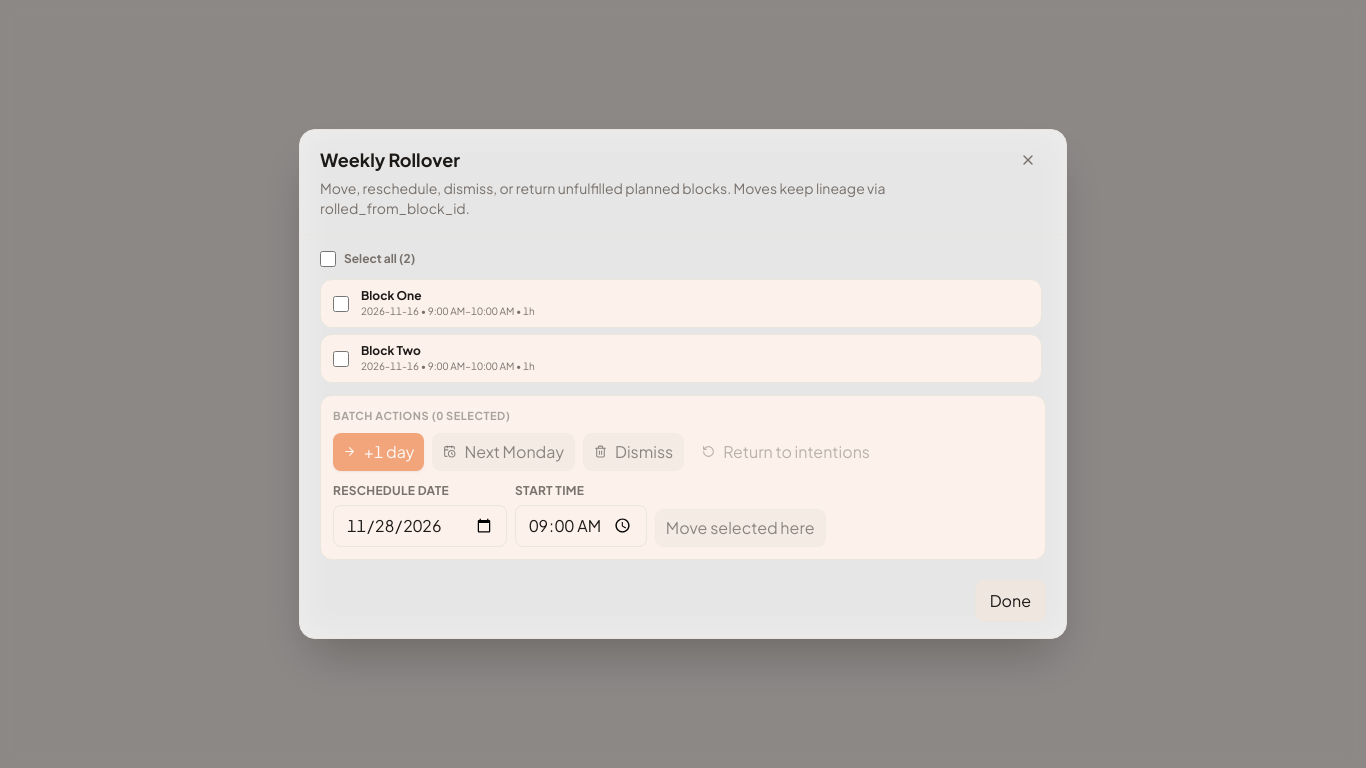
Test case: WeeklyRolloverModal › shows the applied result summary
Click the checkbox labelled "Select all (2)" at (328, 259), box [320,251,336,267]
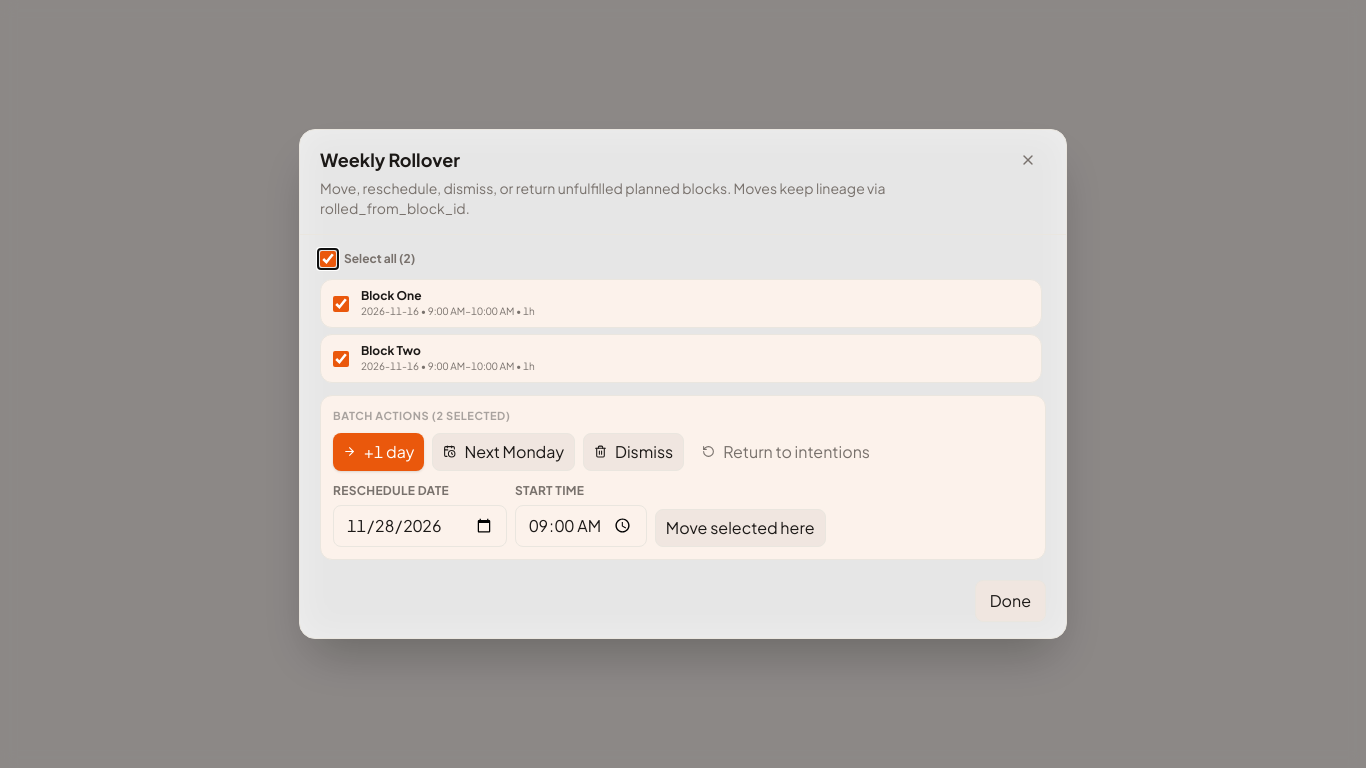
Click the button "Dismiss" at (634, 452), box [583,433,684,471]
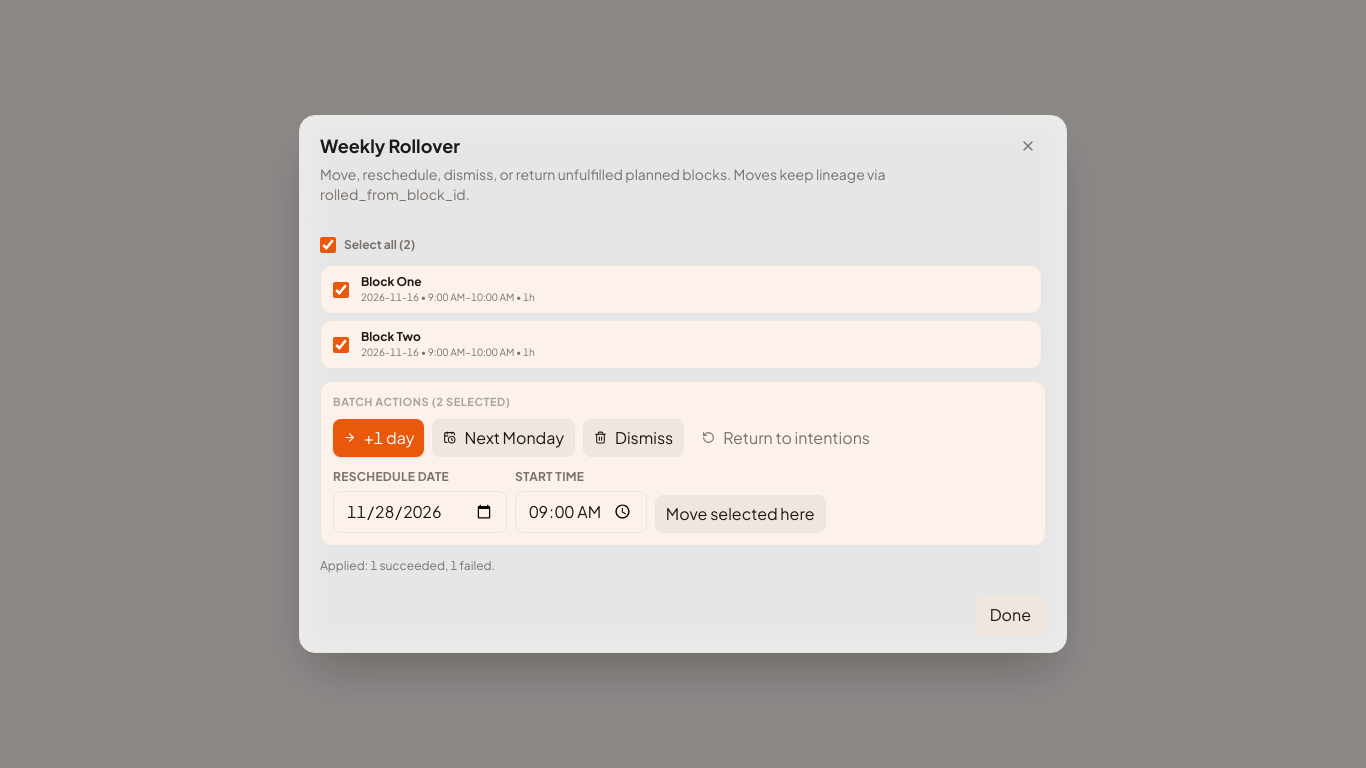
Now the text "Applied: 1 succeeded, 1 failed." is shown, box [320,558,495,573]
